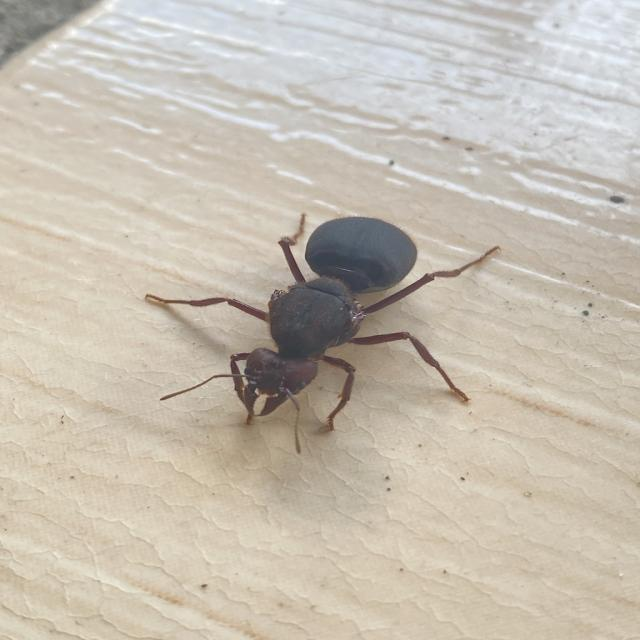Alive-Female-Dealate: (145, 213, 502, 455)
